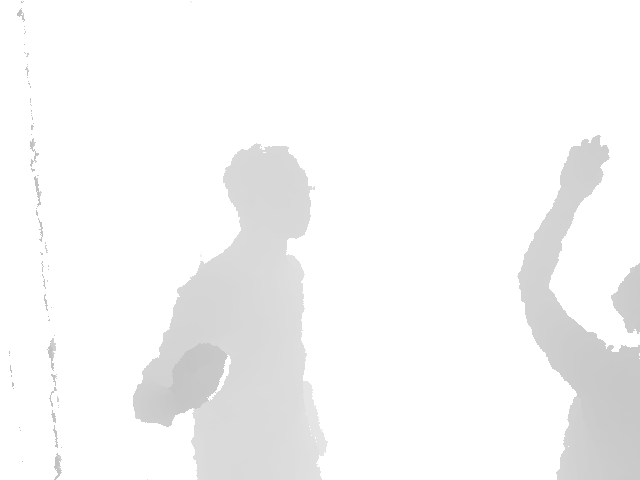hand: (558, 135, 610, 200)
head: (221, 142, 312, 242), (609, 261, 640, 332)
person: (131, 141, 329, 480), (517, 135, 640, 480)
